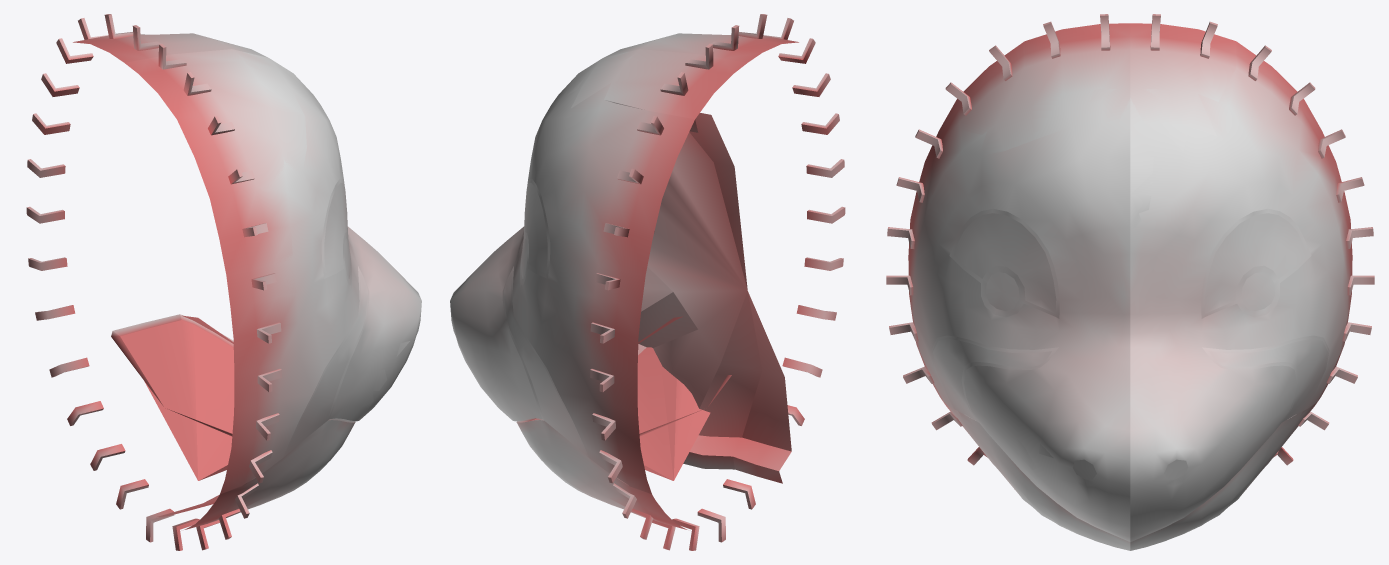
The model's file is SM_WEP_Eff_D92NJ1_Men_02.glb.
The picture shows the model from 3 angles, left to right: view 1: azimuth 30°, elevation 25°; view 2: azimuth 150°, elevation 25°; view 3: azimuth 270°, elevation 25°; orthographic projection.
Parts seen in each view (by area): view 1: SM_WEP_Eff_D92NJ1_Men_02; view 2: SM_WEP_Eff_D92NJ1_Men_02; view 3: SM_WEP_Eff_D92NJ1_Men_02.
Boxes of the visible parts, x1,y1,x2,y2 form: SM_WEP_Eff_D92NJ1_Men_02: (26, 14, 421, 550); SM_WEP_Eff_D92NJ1_Men_02: (450, 14, 845, 550); SM_WEP_Eff_D92NJ1_Men_02: (886, 14, 1374, 550).
Bounding box in the file's own units: 0.1785 × 0.2995 × 0.2606.
